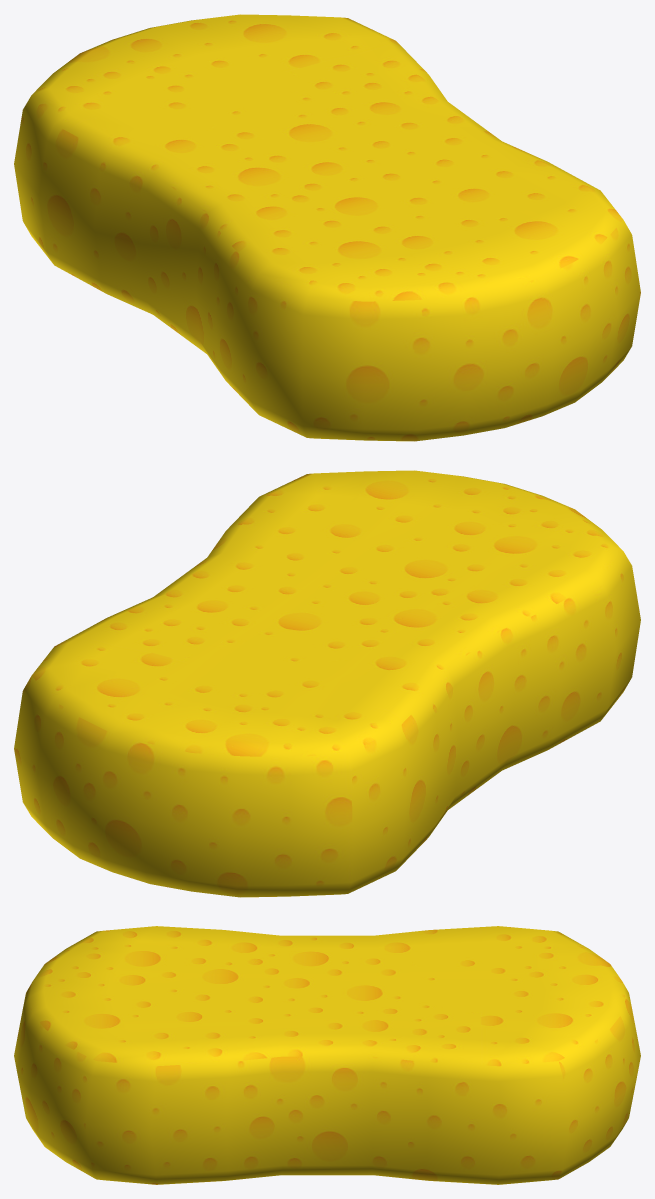
The model's file is Sponge.fbx.
3 views of the same model, one above another, from view 1: azimuth 30°, elevation 25°; view 2: azimuth 150°, elevation 25°; view 3: azimuth 270°, elevation 25° (orthographic). The views are drawn at different scales.
Parts seen in each view (by area): view 1: sponge; view 2: sponge; view 3: sponge.
Part boxes in pixels (x1,y1,x2,y2): sponge: (14,14,640,441); sponge: (14,470,640,897); sponge: (14,926,640,1184).
Size of the model in its own units: 64.92 by 26.36 by 115.
1 material, 1 textured.
